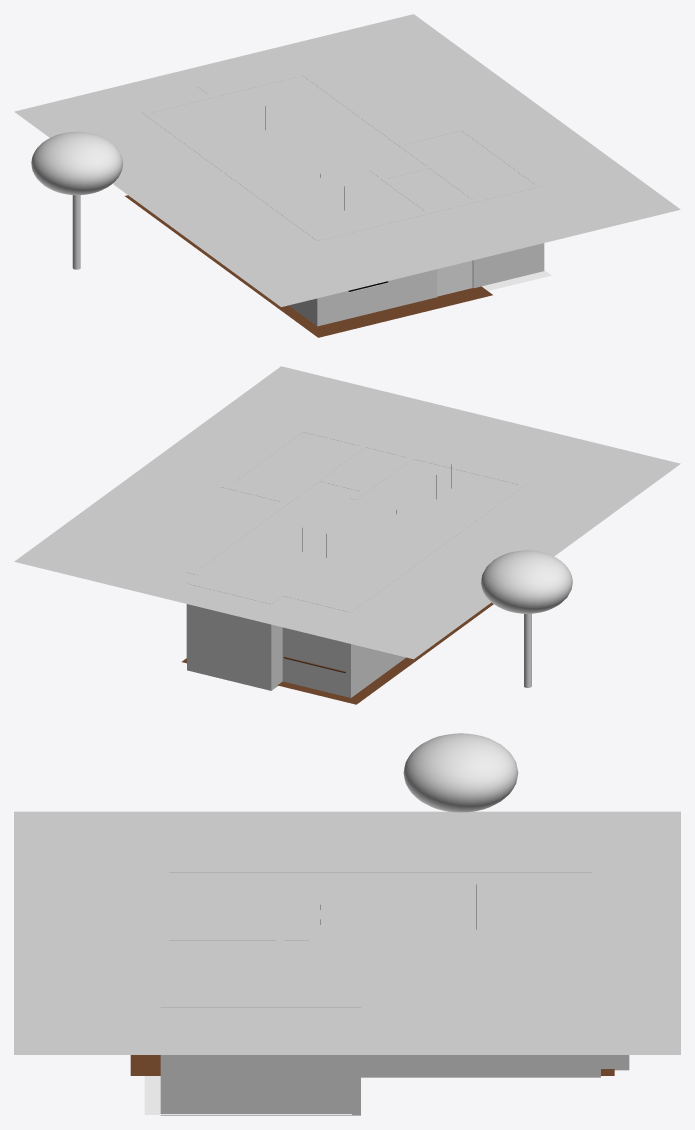
Rendered from house07.FBX.
3 renders of one model, top to bottom at view 1: azimuth 30°, elevation 25°; view 2: azimuth 150°, elevation 25°; view 3: azimuth 270°, elevation 25°, orthographic. The views are drawn at different scales.
Visible parts, largest first — view 1: Plane004, house004, Sphere001, Plane002, Box110, Cylinder009; view 2: Plane004, house004, Sphere001, Plane002, Cylinder009; view 3: Plane004, house004, Sphere001, Plane003, Plane002.
Boxes of the visible parts, x1,y1,x2,y2 form: Plane004: (14,14,680,306); house004: (141,66,544,326); Sphere001: (31,131,122,195); Plane002: (125,195,492,337); Box110: (437,260,472,296); Cylinder009: (72,195,80,269); Plane004: (14,366,680,659); house004: (186,428,526,697); Sphere001: (481,550,572,613); Plane002: (182,602,493,704); Cylinder009: (524,613,531,687); Plane004: (14,811,680,1054); house004: (160,869,629,1115); Sphere001: (403,733,518,812); Plane003: (144,1076,351,1114); Plane002: (130,1055,614,1075).
Bounding box in the file's own units: 556 × 150 × 554.
